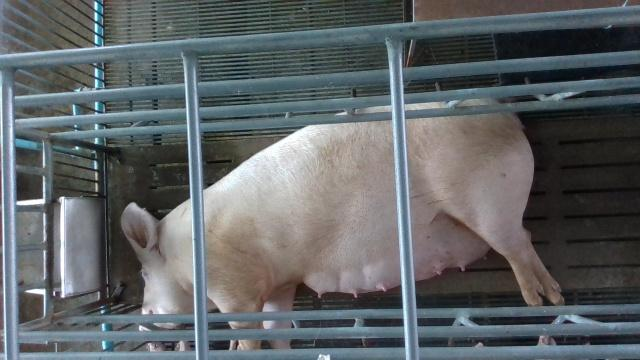sow-sleep-lactate: (120, 99, 565, 350)
